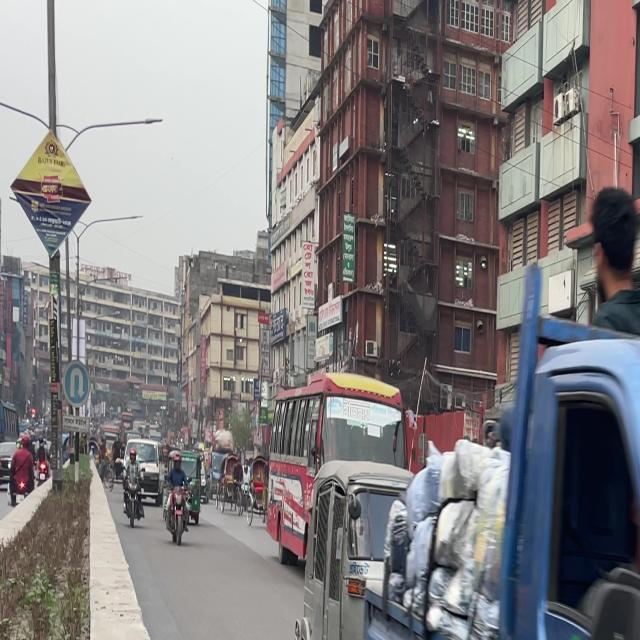bus: (261, 372, 410, 574)
motorbike: (160, 468, 194, 548), (116, 459, 150, 534)
rickshaw: (290, 444, 415, 640)
van: (361, 352, 640, 640)
